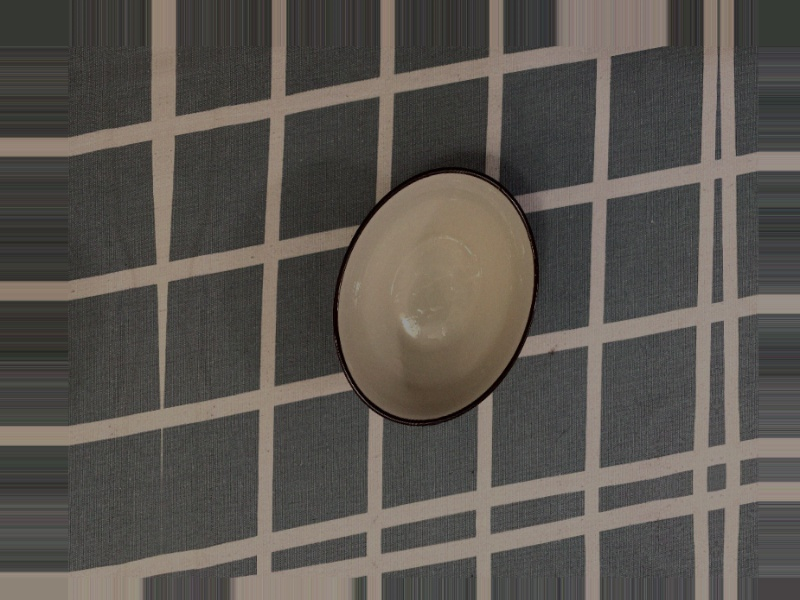bowl_small: (326, 139, 546, 450)
